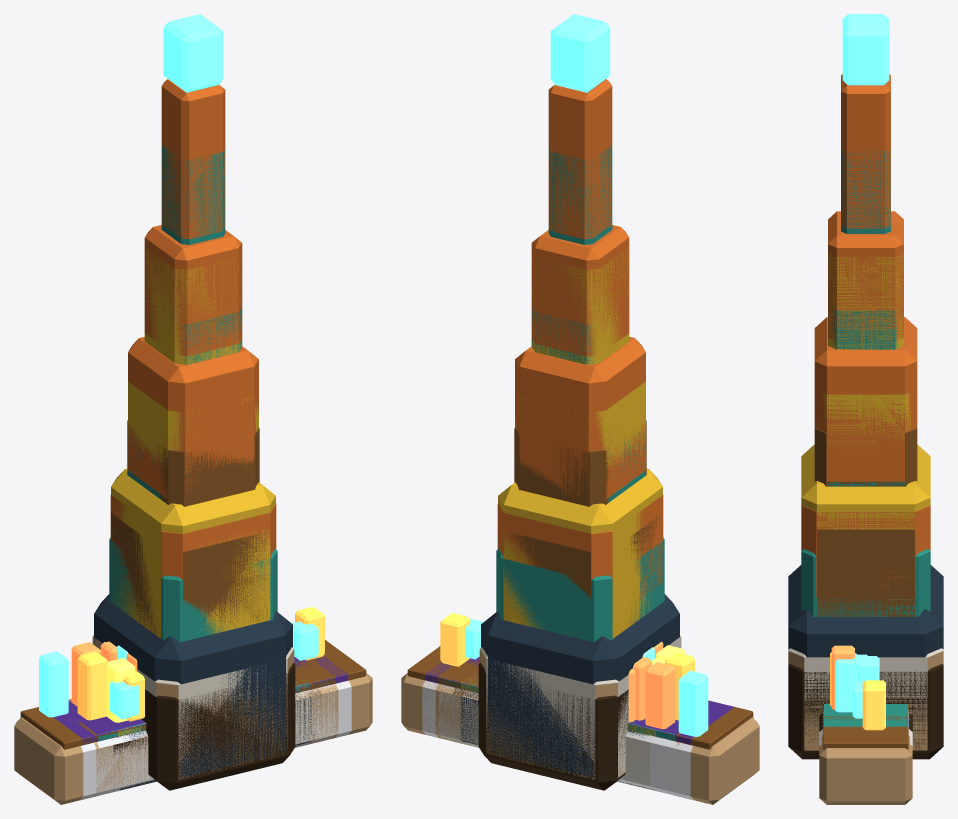
File: flagship_props_016.glb
3 views of the same model, side by side, from view 1: azimuth 30°, elevation 25°; view 2: azimuth 150°, elevation 25°; view 3: azimuth 270°, elevation 25° (orthographic). The views are drawn at different scales.
Parts seen in each view (by area): view 1: Prop_BBIsle_Obelisk_16, Prop_BBIsle_Obelisk_17, Prop_BBIsle_Obelisk_19, Prop_BBIsle_Obelisk_18, Prop_BBIsle_Planter_03, Prop_BBIsle_Planter_12, Prop_BBIsle_Planter_02, Prop_BBIsle_Planter_06, Prop_BBIsle_Planter_01, Prop_BBIsle_Planter_08, Prop_BBIsle_Planter_05; view 2: Prop_BBIsle_Obelisk_16, Prop_BBIsle_Obelisk_17, Prop_BBIsle_Obelisk_18, Prop_BBIsle_Planter_12, Prop_BBIsle_Obelisk_19, Prop_BBIsle_Planter_03, Prop_BBIsle_Planter_02, Prop_BBIsle_Planter_05, Prop_BBIsle_Planter_01, Prop_BBIsle_Planter_06, Prop_BBIsle_Planter_10, Prop_BBIsle_Planter_08 (+1 smaller); view 3: Prop_BBIsle_Obelisk_16, Prop_BBIsle_Obelisk_17, Prop_BBIsle_Obelisk_19, Prop_BBIsle_Obelisk_18, Prop_BBIsle_Planter_12, Prop_BBIsle_Planter_02, Prop_BBIsle_Planter_03, Prop_BBIsle_Planter_05, Prop_BBIsle_Planter_06, Prop_BBIsle_Planter_04, Prop_BBIsle_Planter_01.
Part boxes in pixels (box(x1,y1,x2,y2)): Prop_BBIsle_Obelisk_16: box(94, 14, 292, 777); Prop_BBIsle_Obelisk_17: box(111, 248, 295, 790); Prop_BBIsle_Obelisk_19: box(92, 420, 294, 778); Prop_BBIsle_Obelisk_18: box(93, 145, 293, 779); Prop_BBIsle_Planter_03: box(53, 606, 351, 799); Prop_BBIsle_Planter_12: box(14, 640, 372, 804); Prop_BBIsle_Planter_02: box(76, 621, 338, 792); Prop_BBIsle_Planter_06: box(98, 658, 334, 783); Prop_BBIsle_Planter_01: box(121, 683, 310, 783); Prop_BBIsle_Planter_08: box(68, 657, 335, 796); Prop_BBIsle_Planter_05: box(69, 642, 320, 756); Prop_BBIsle_Obelisk_16: box(481, 14, 679, 777); Prop_BBIsle_Obelisk_17: box(478, 248, 662, 790); Prop_BBIsle_Obelisk_18: box(480, 145, 680, 780); Prop_BBIsle_Planter_12: box(401, 646, 759, 804); Prop_BBIsle_Obelisk_19: box(479, 420, 681, 779); Prop_BBIsle_Planter_03: box(422, 613, 734, 799); Prop_BBIsle_Planter_02: box(435, 618, 680, 745); Prop_BBIsle_Planter_05: box(453, 662, 675, 737); Prop_BBIsle_Planter_01: box(463, 679, 652, 786); Prop_BBIsle_Planter_06: box(439, 645, 685, 744); Prop_BBIsle_Planter_10: box(459, 641, 663, 743); Prop_BBIsle_Planter_08: box(438, 657, 711, 796); Prop_BBIsle_Obelisk_16: box(788, 14, 943, 657); Prop_BBIsle_Obelisk_17: box(788, 253, 943, 759); Prop_BBIsle_Obelisk_19: box(788, 428, 943, 750); Prop_BBIsle_Obelisk_18: box(788, 149, 943, 746); Prop_BBIsle_Planter_12: box(819, 715, 912, 804); Prop_BBIsle_Planter_02: box(823, 653, 908, 728); Prop_BBIsle_Planter_03: box(819, 680, 912, 745); Prop_BBIsle_Planter_05: box(819, 645, 912, 731); Prop_BBIsle_Planter_06: box(823, 715, 908, 726); Prop_BBIsle_Planter_04: box(823, 656, 908, 716); Prop_BBIsle_Planter_01: box(823, 704, 908, 715).
Size of the model in its own units: 2.3 by 5.04 by 1.
